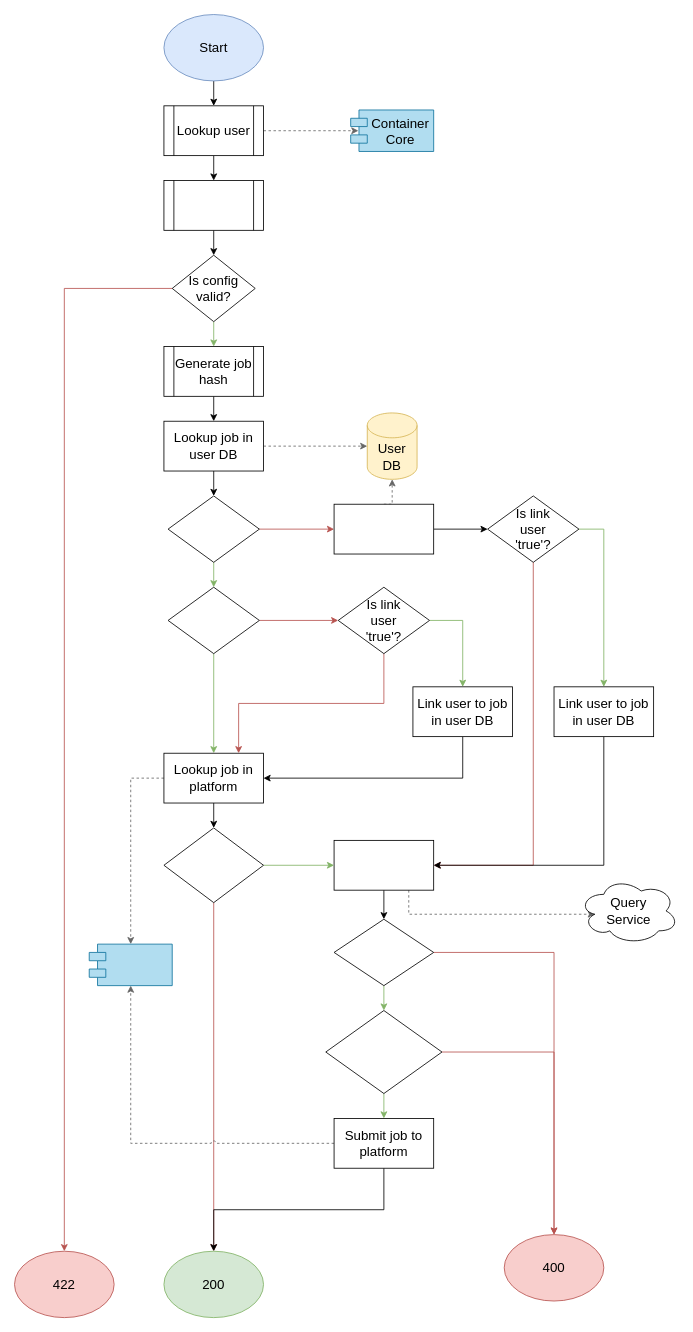
The diagram is 693 pixels wide and 1332 high, and some of its shapes have lost their labels. The centre of each missing label's shape, as x and y in pixels:
Async Platform: pixel 130 964
Does job exist?: pixel 213 528
Does query job exist?: pixel 383 952
Is job status 'expired'?: pixel 213 865
Is query job status 'complete'?: pixel 383 1052
Is user linked to job?: pixel 213 620
Lookup target query job in query service: pixel 383 865
Validate job config: pixel 213 205
Write job to DB: pixel 383 528
